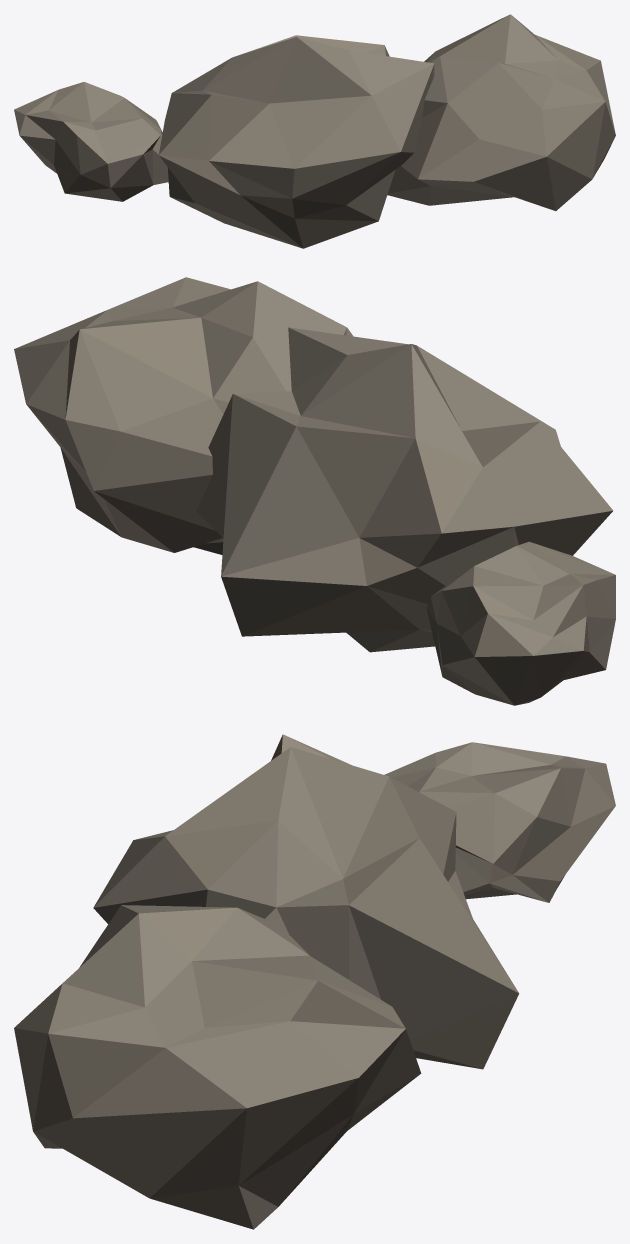
Rendered from roca_2.glb.
The picture shows the model from 3 angles, top to bottom: view 1: azimuth 30°, elevation 25°; view 2: azimuth 150°, elevation 25°; view 3: azimuth 270°, elevation 25°; orthographic projection. The views are drawn at different scales.
Parts seen in each view (by area): view 1: roca_2; view 2: roca_2; view 3: roca_2.
Part boxes in pixels (left/top/right/bottom): roca_2: left=14, top=14, right=615, bottom=248; roca_2: left=14, top=277, right=615, bottom=705; roca_2: left=14, top=734, right=615, bottom=1229.
Size of the model in its own units: 0.517 by 0.2055 by 0.3451.
